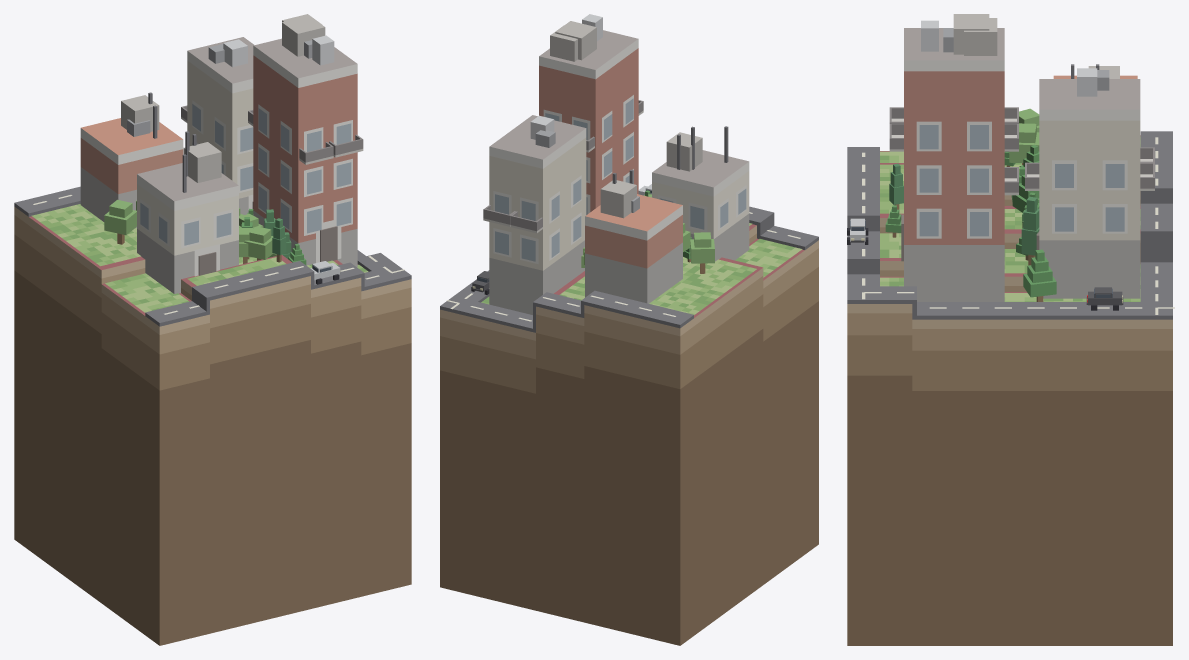
Rendered from block_22_leakingdam_0.glb.
3 renders of one model, left to right at view 1: azimuth 30°, elevation 25°; view 2: azimuth 150°, elevation 25°; view 3: azimuth 270°, elevation 25°, orthographic. The views are drawn at different scales.
Visible parts, largest first — view 1: Patch_UpperRight_b21_LD, ResidBldgs_b22_LD, Roads_UpperRight_b21_LD, Green_UpperRight_b22_LD, URTree_22_2_LD, URTree_22_7_LD; view 2: Patch_UpperRight_b21_LD, ResidBldgs_b22_LD, Roads_UpperRight_b21_LD, Green_UpperRight_b22_LD, URTree_22_2_LD; view 3: Patch_UpperRight_b21_LD, ResidBldgs_b22_LD, Roads_UpperRight_b21_LD, Green_UpperRight_b22_LD, URTree_22_21_LD, URTree_22_17_LD, RoadMarks_UpperRight_b21_LD, URTree_22_4_LD, RCar_12_LD, URTree_22_11_LD, RCar_8_LD.
Boxes of the visible parts, x1,y1,x2,y2 form: Patch_UpperRight_b21_LD: [14, 206, 411, 645]; ResidBldgs_b22_LD: [80, 14, 363, 293]; Roads_UpperRight_b21_LD: [14, 186, 411, 326]; Green_UpperRight_b22_LD: [31, 204, 368, 312]; URTree_22_2_LD: [104, 199, 136, 244]; URTree_22_7_LD: [244, 226, 273, 260]; Patch_UpperRight_b21_LD: [440, 224, 818, 645]; ResidBldgs_b22_LD: [483, 14, 749, 314]; Roads_UpperRight_b21_LD: [440, 206, 818, 332]; Green_UpperRight_b22_LD: [481, 223, 802, 314]; URTree_22_2_LD: [690, 232, 714, 273]; Patch_UpperRight_b21_LD: [847, 135, 1172, 645]; ResidBldgs_b22_LD: [889, 14, 1154, 301]; Roads_UpperRight_b21_LD: [847, 131, 1172, 319]; Green_UpperRight_b22_LD: [880, 136, 1140, 301]; URTree_22_21_LD: [1023, 249, 1056, 301]; URTree_22_17_LD: [1021, 196, 1039, 265]; RoadMarks_UpperRight_b21_LD: [862, 137, 1174, 314]; URTree_22_4_LD: [1009, 123, 1039, 164]; RCar_12_LD: [1086, 287, 1123, 310]; URTree_22_11_LD: [889, 163, 903, 209]; RCar_8_LD: [847, 218, 868, 244].
Size of the model in its own units: 9.5 by 19.17 by 9.55.
